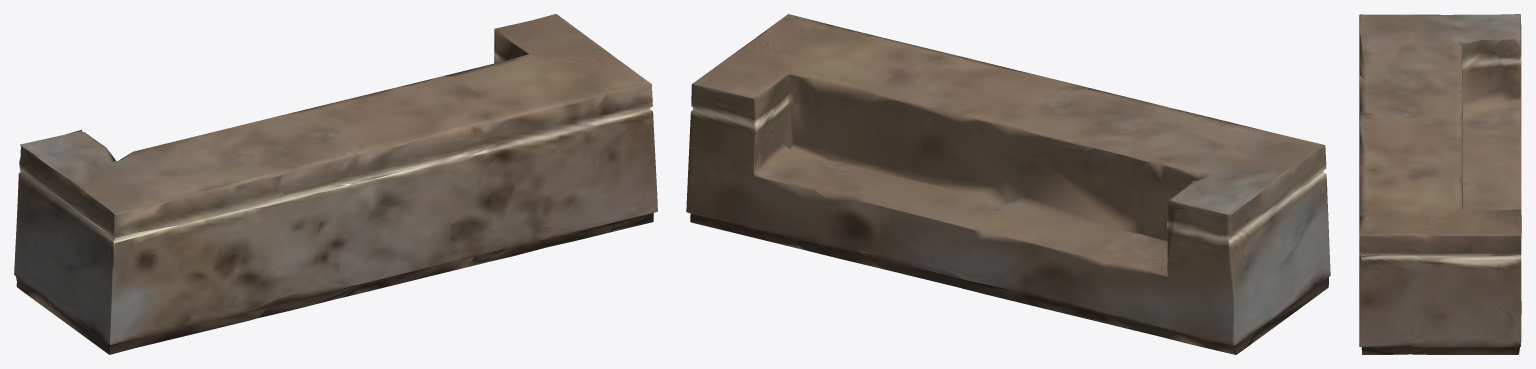
The model's file is meja_resepsionis_lod2.glb.
3 views of the same model, side by side, from view 1: azimuth 30°, elevation 25°; view 2: azimuth 150°, elevation 25°; view 3: azimuth 270°, elevation 25° (orthographic). The views are drawn at different scales.
Visible parts, largest first — view 1: tripo_node_a61c3edd-67cc-4caf-b8a7-b2cf4428470e; view 2: tripo_node_a61c3edd-67cc-4caf-b8a7-b2cf4428470e; view 3: tripo_node_a61c3edd-67cc-4caf-b8a7-b2cf4428470e.
Part boxes in pixels (<box>): tripo_node_a61c3edd-67cc-4caf-b8a7-b2cf4428470e: <box>14,14,657,354</box>; tripo_node_a61c3edd-67cc-4caf-b8a7-b2cf4428470e: <box>686,14,1330,354</box>; tripo_node_a61c3edd-67cc-4caf-b8a7-b2cf4428470e: <box>1359,14,1521,354</box>.
Bounding box in the file's own units: 0.9386 × 0.2301 × 0.2848.
Materials: 1 (1 with a texture image).
